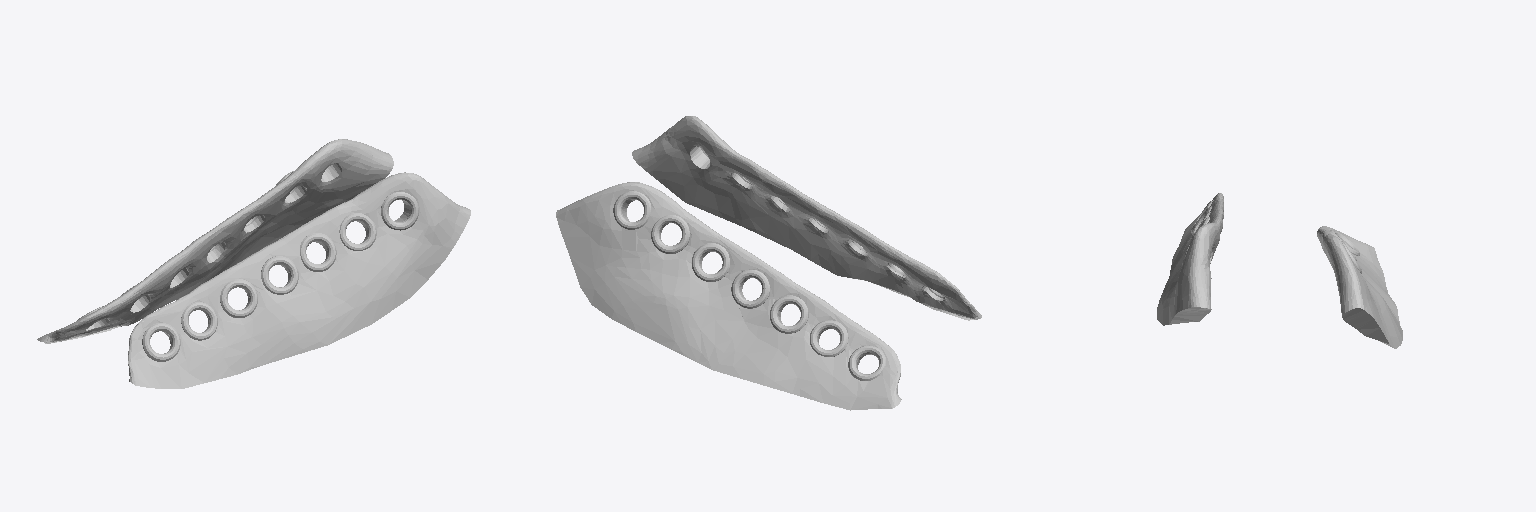
File: stansmith_scan_upper.obj
3 views of the same model, side by side, from view 1: azimuth 30°, elevation 25°; view 2: azimuth 150°, elevation 25°; view 3: azimuth 270°, elevation 25° (orthographic).
Parts seen in each view (by area): view 1: smoothed-mesh_with_holes_symplified_twice.001, smoothed-mesh_with_holes_symplified_twice.002, Torus.001, Torus.007, Torus.005, Torus.013, Torus.009, Torus.003, Torus.011; view 2: smoothed-mesh_with_holes_symplified_twice.002, smoothed-mesh_with_holes_symplified_twice.001, Torus.010, Torus.006, Torus.004, Torus.008, Torus.012, Torus.002, Torus; view 3: smoothed-mesh_with_holes_symplified_twice.002, smoothed-mesh_with_holes_symplified_twice.001.
Part boxes in pixels (x1,y1,x2,y2): smoothed-mesh_with_holes_symplified_twice.001: (128, 172, 470, 388); smoothed-mesh_with_holes_symplified_twice.002: (37, 139, 393, 343); Torus.001: (142, 323, 180, 361); Torus.007: (261, 256, 298, 294); Torus.005: (220, 279, 257, 317); Torus.013: (381, 192, 418, 230); Torus.009: (300, 233, 336, 271); Torus.003: (181, 302, 217, 340); Torus.011: (339, 213, 376, 250); smoothed-mesh_with_holes_symplified_twice.002: (556, 182, 901, 410); smoothed-mesh_with_holes_symplified_twice.001: (632, 116, 981, 320); Torus.010: (651, 215, 689, 253); Torus.006: (731, 269, 769, 308); Torus.004: (770, 295, 808, 333); Torus.008: (692, 243, 729, 281); Torus.012: (613, 191, 650, 229); Torus.002: (810, 320, 848, 356); Torus: (848, 345, 885, 380); smoothed-mesh_with_holes_symplified_twice.002: (1317, 226, 1402, 348); smoothed-mesh_with_holes_symplified_twice.001: (1157, 193, 1223, 325).
Bounding box in the file's own units: 1.41 × 0.6487 × 0.8633.